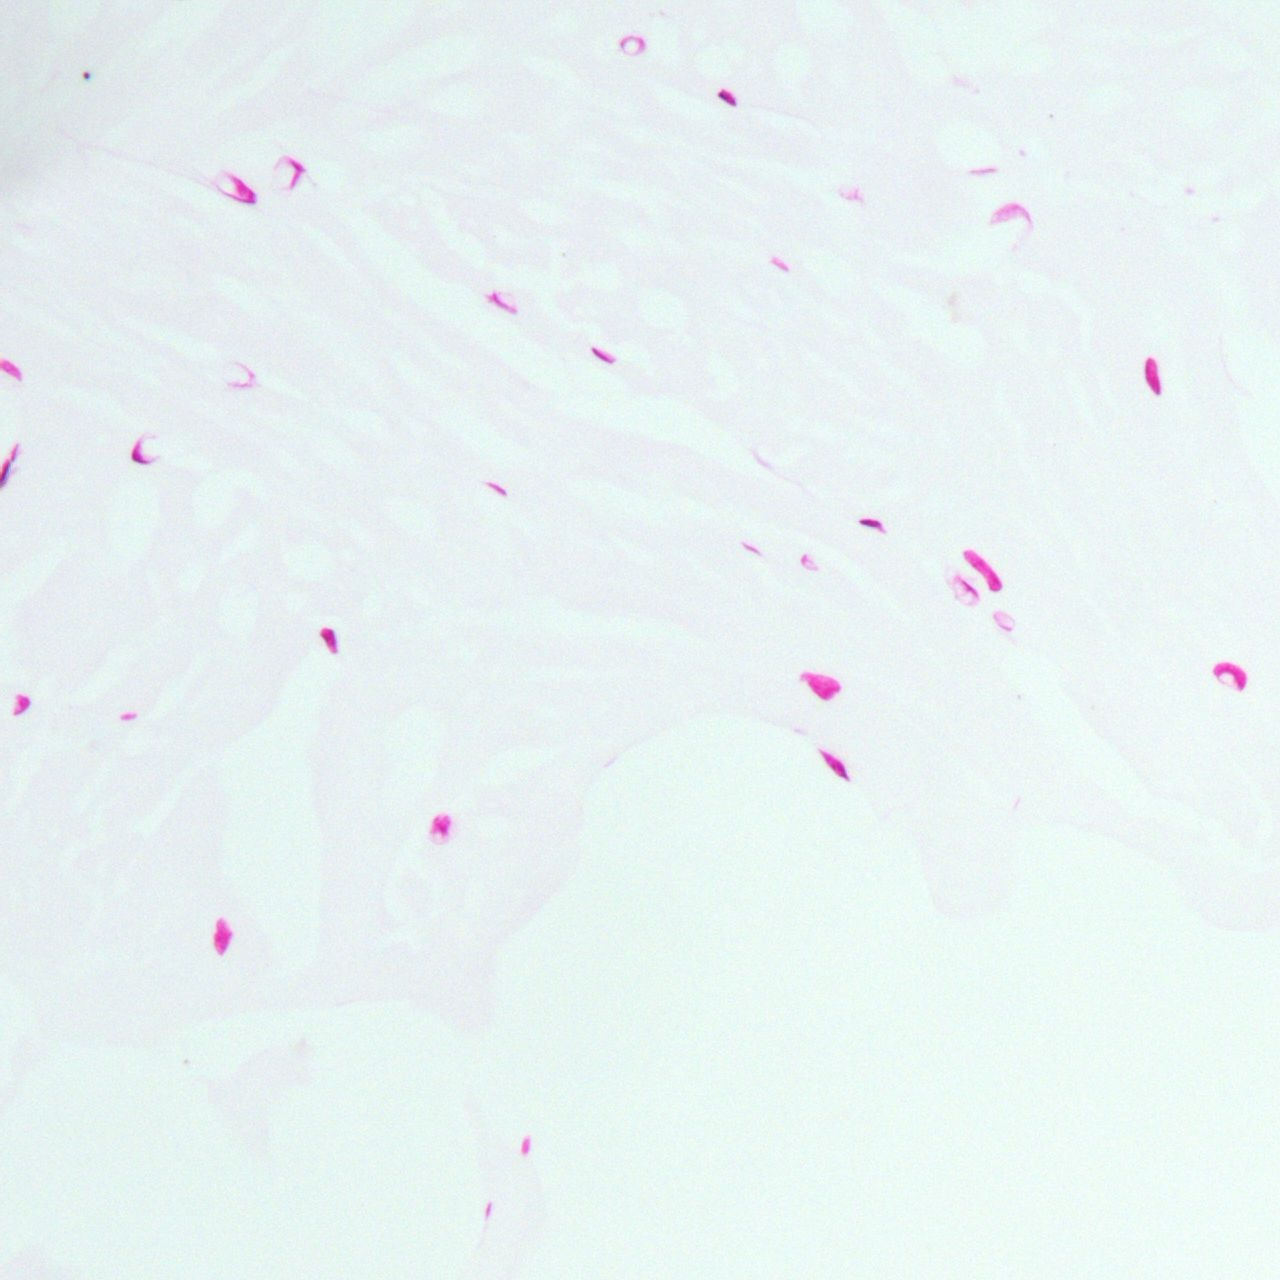nucleus-FG: (959, 544, 1007, 594), (819, 745, 851, 783), (318, 624, 340, 655), (588, 345, 617, 365), (716, 86, 740, 108), (488, 479, 508, 497), (0, 458, 11, 486), (859, 518, 881, 527), (83, 72, 89, 79)
